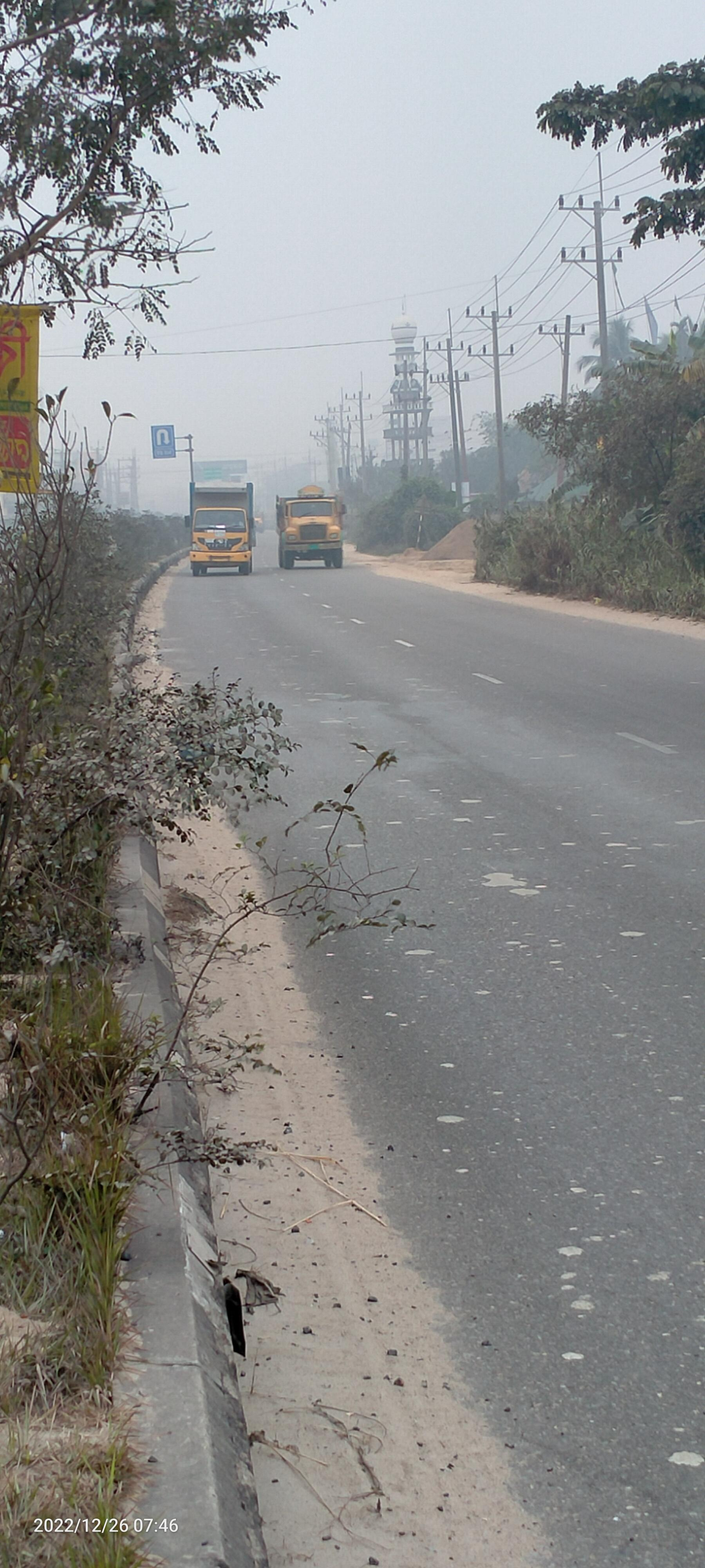Truck: (268, 480, 362, 578), (177, 477, 269, 573)
